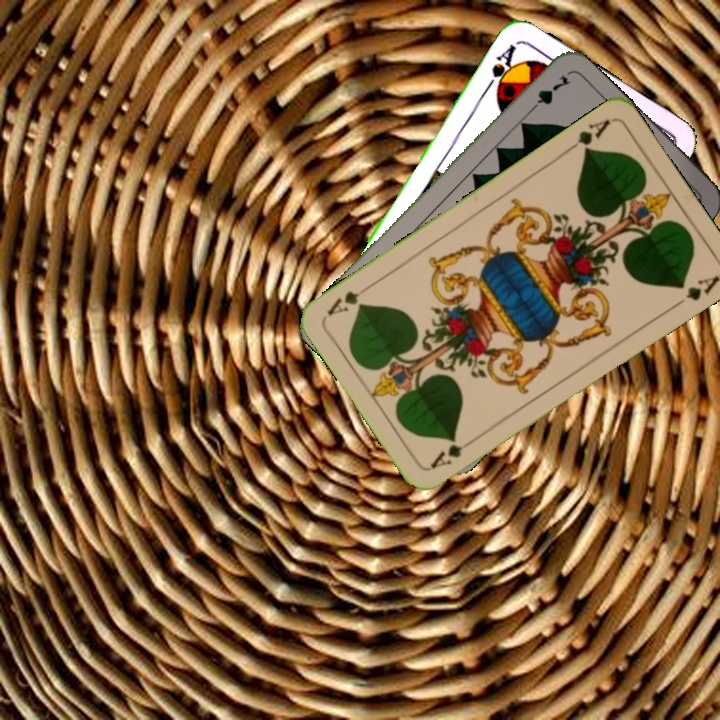G7: (523, 70, 573, 118)
GA: (562, 115, 613, 156), (426, 434, 479, 472)
SA: (482, 39, 520, 98)
